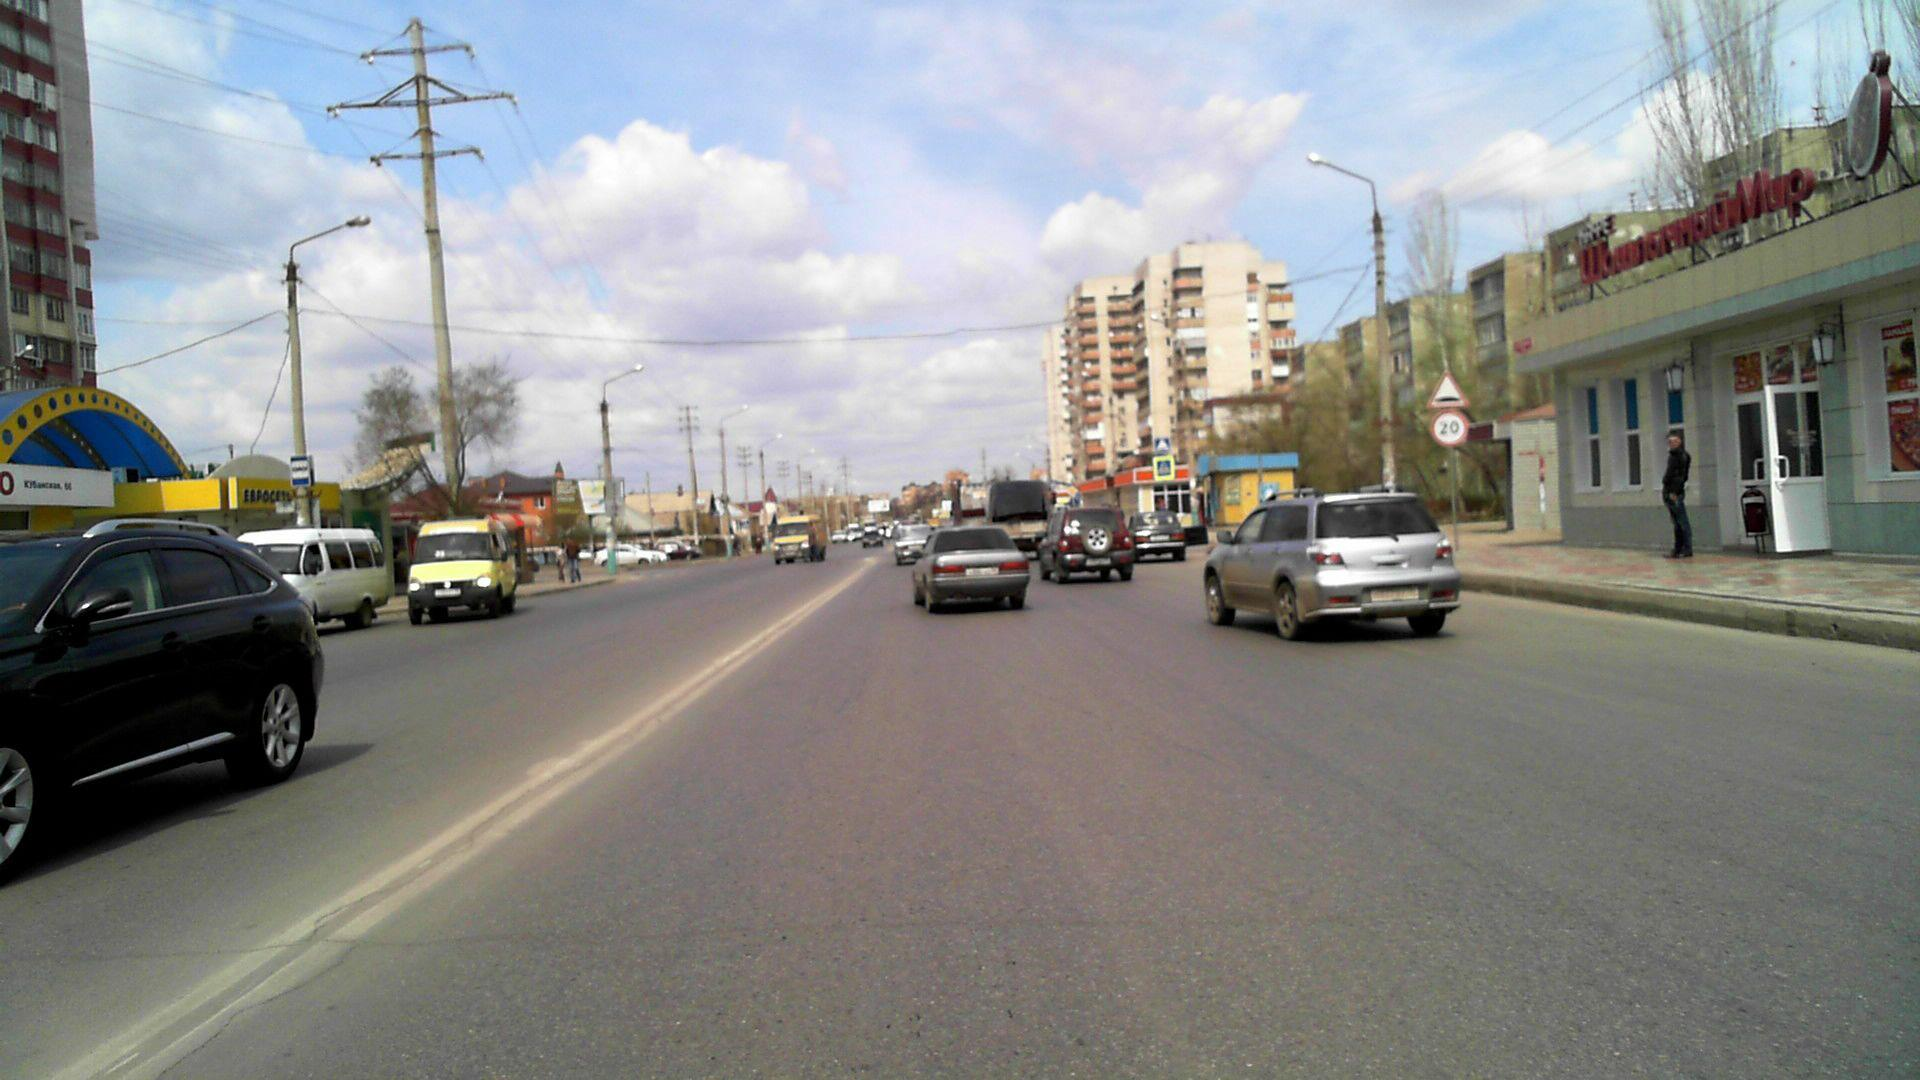1_17: (1427, 369, 1469, 409)
3_24: (1432, 410, 1466, 444)
5_16: (290, 454, 311, 487)
5_19_1: (1156, 458, 1174, 476)
5_20: (1153, 436, 1171, 454)
